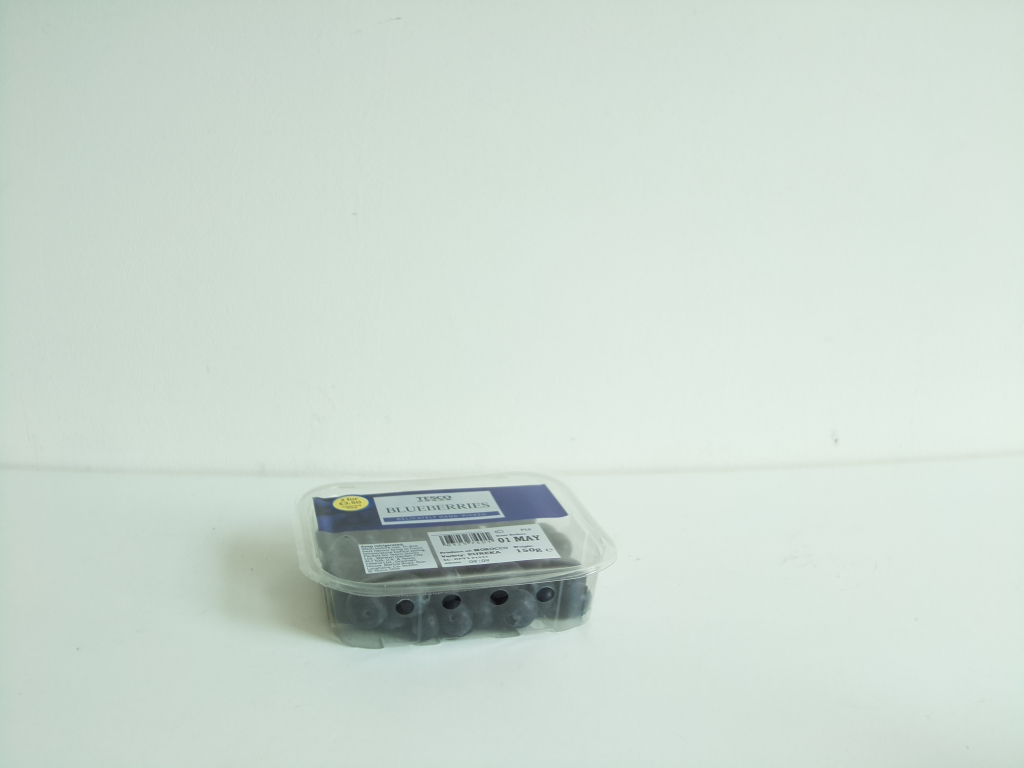soft-fruit: (296, 480, 617, 649)
